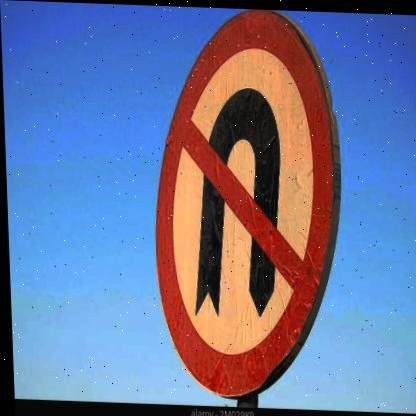No U-turn: (141, 8, 354, 407)
